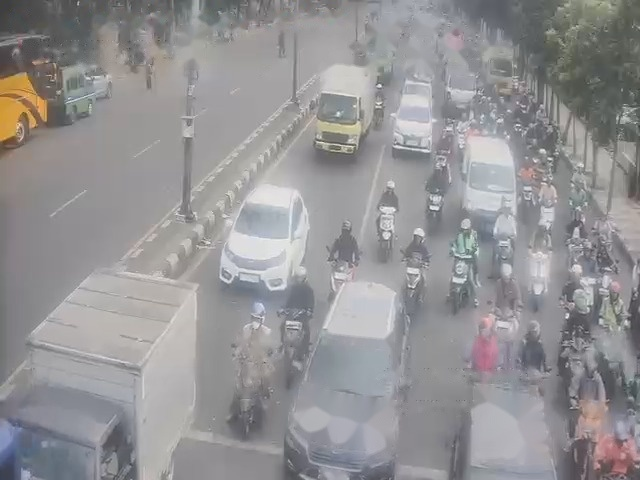Bis: (0, 33, 57, 146)
Mobil: (0, 271, 197, 479), (303, 284, 407, 480), (449, 370, 557, 479), (221, 180, 301, 287), (466, 138, 516, 210), (50, 64, 96, 124), (390, 96, 435, 157), (447, 71, 475, 109), (89, 65, 112, 98)
Motor: (231, 343, 265, 438), (558, 327, 591, 397), (281, 308, 307, 373), (494, 308, 518, 369), (529, 251, 548, 311), (529, 250, 549, 305), (328, 259, 353, 302), (450, 256, 470, 309), (592, 267, 612, 314), (405, 258, 424, 307), (492, 237, 512, 277), (536, 208, 552, 251), (566, 232, 584, 268), (575, 281, 589, 325), (380, 207, 392, 257), (428, 191, 441, 222), (523, 182, 535, 212), (373, 98, 384, 128), (513, 121, 522, 137)
Truk: (314, 64, 374, 154)
